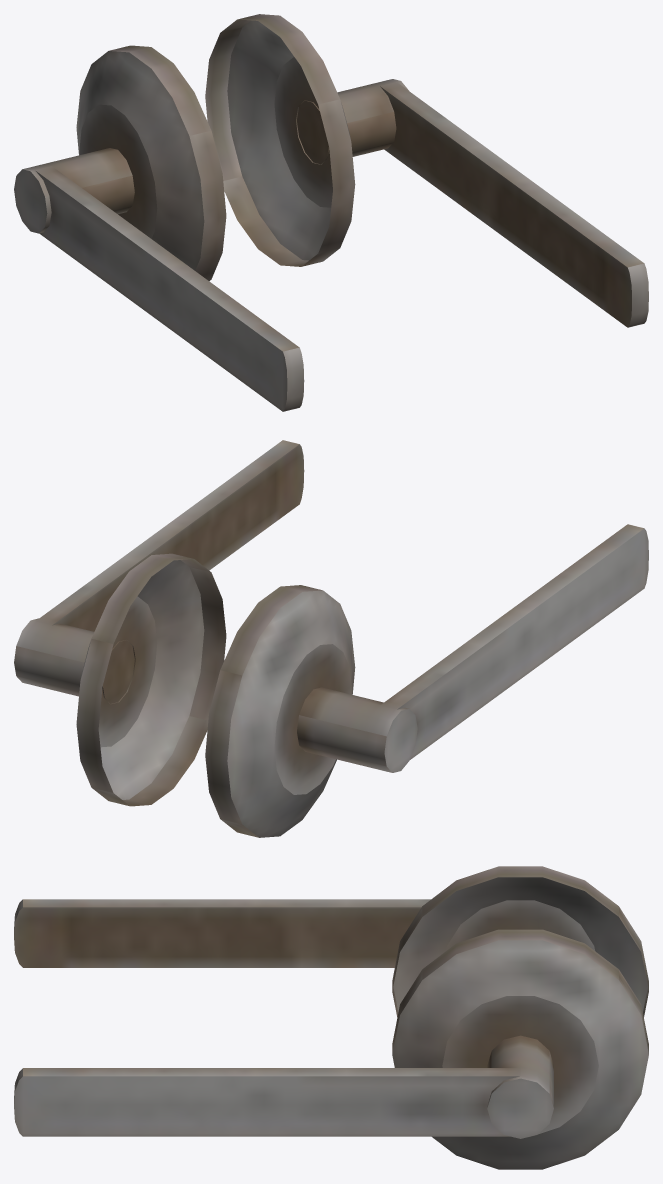
Rendered from TR_BlueDoorHandle.fbx.
3 renders of one model, top to bottom at view 1: azimuth 30°, elevation 25°; view 2: azimuth 150°, elevation 25°; view 3: azimuth 270°, elevation 25°, orthographic.
Visible parts, largest first — view 1: door014.001; view 2: door014.001; view 3: door014.001.
Part boxes in pixels (x1,y1,x2,y2): door014.001: (14, 14, 648, 411); door014.001: (14, 440, 648, 837); door014.001: (14, 866, 648, 1169).
Bounding box in the file's own units: 16.73 × 9.85 × 24.74.
